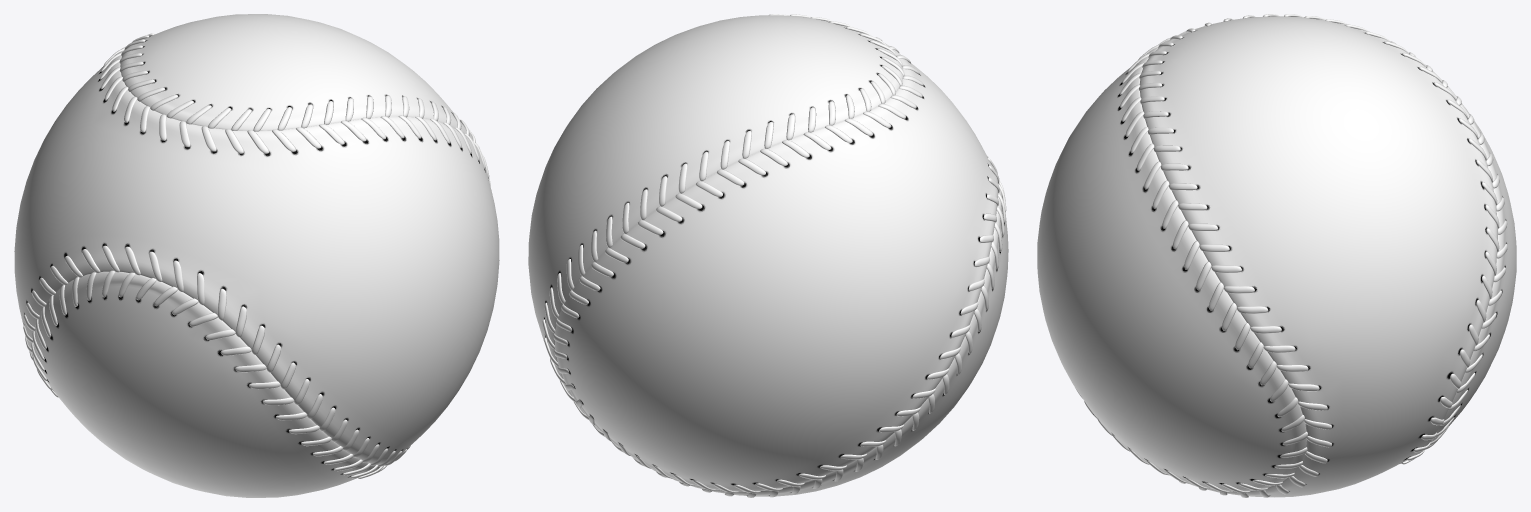
File: ball.glb
The picture shows the model from 3 angles, left to right: view 1: azimuth 30°, elevation 25°; view 2: azimuth 150°, elevation 25°; view 3: azimuth 270°, elevation 25°; orthographic projection.
Parts seen in each view (by area): view 1: baseball.001; view 2: baseball.001; view 3: baseball.001.
Part boxes in pixels (<box>): baseball.001: <box>14,14,499,497</box>; baseball.001: <box>528,14,1008,497</box>; baseball.001: <box>1037,14,1516,497</box>.
Bounding box in the file's own units: 0.5033 × 0.4924 × 0.4928.
Materials: 2 (1 with a texture image).
